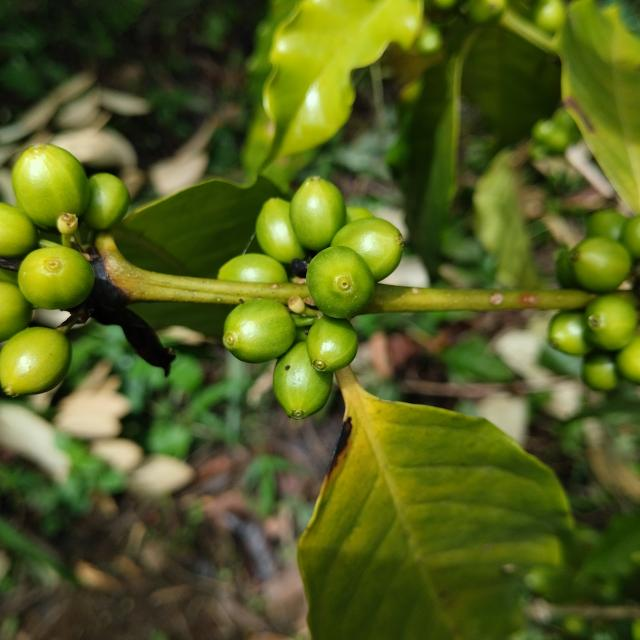green: (11, 144, 89, 228), (306, 246, 375, 318), (17, 245, 94, 309), (0, 327, 71, 396), (331, 217, 404, 282), (222, 299, 296, 363), (273, 342, 333, 420), (290, 176, 346, 251), (571, 236, 632, 292), (255, 197, 305, 263), (306, 315, 358, 372), (586, 294, 638, 351), (81, 172, 130, 230), (217, 253, 288, 283)
